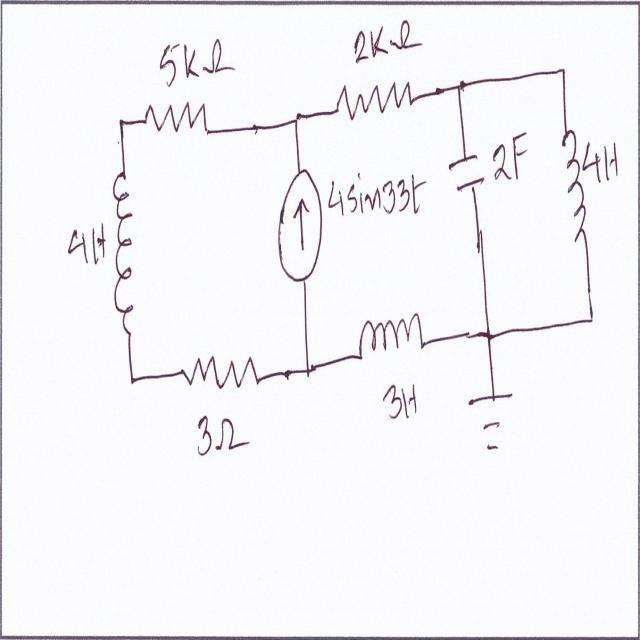capacitor: (446, 152, 486, 196)
current_source: (275, 170, 325, 284)
ground: (466, 391, 522, 458)
inductor: (110, 170, 138, 320), (560, 121, 588, 248), (359, 314, 426, 358)
resistor: (184, 338, 260, 404), (335, 77, 417, 124), (137, 95, 212, 143)
